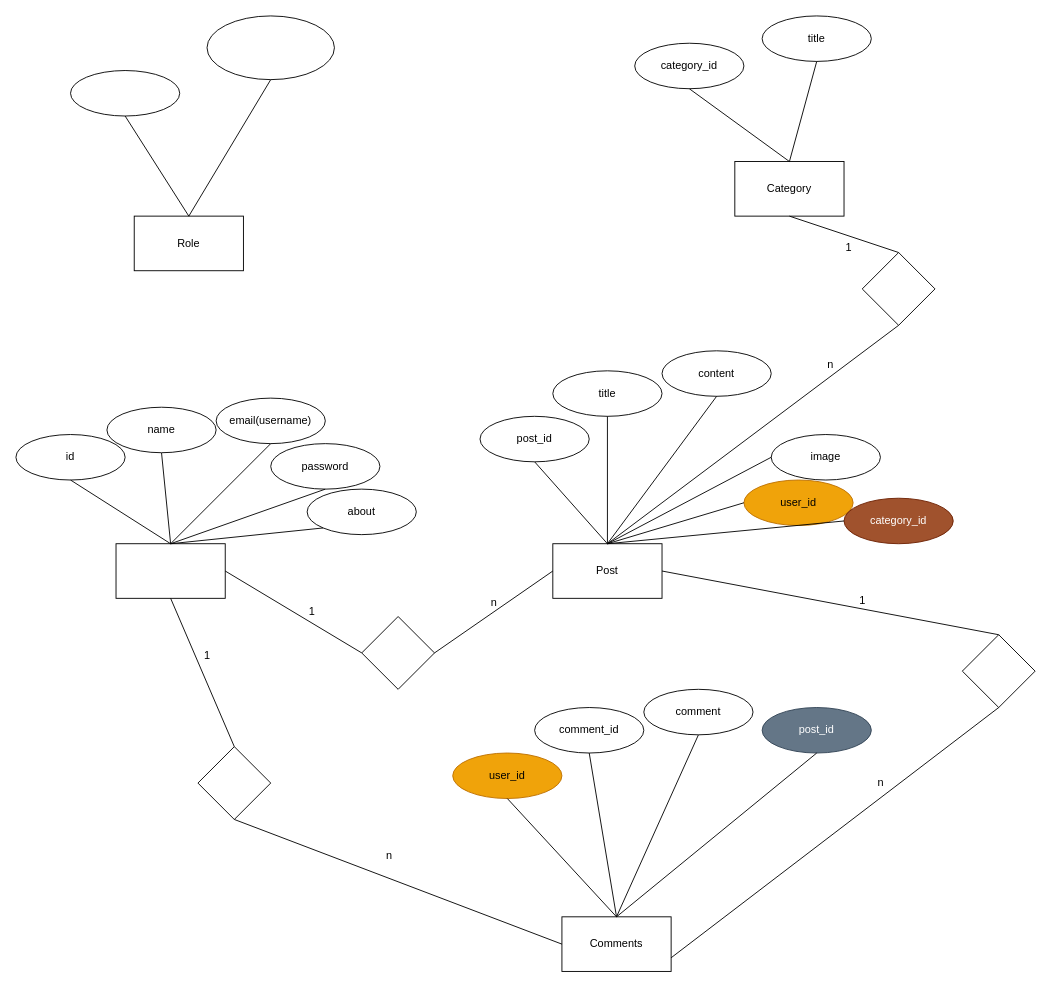
The diagram is 1051 pixels wide and 987 high, and some of its shapes have lost their labels. Here are the shapes that lost their labels. From the top down, the centre of each, then its label:
At [270,47]: "role_name(eg. admin name)".
At [125,93]: "role_id".
At [898,288]: "contains".
At [170,570]: "User".
At [398,652]: "can create".
At [998,671]: "can have".
At [234,782]: "can do".
